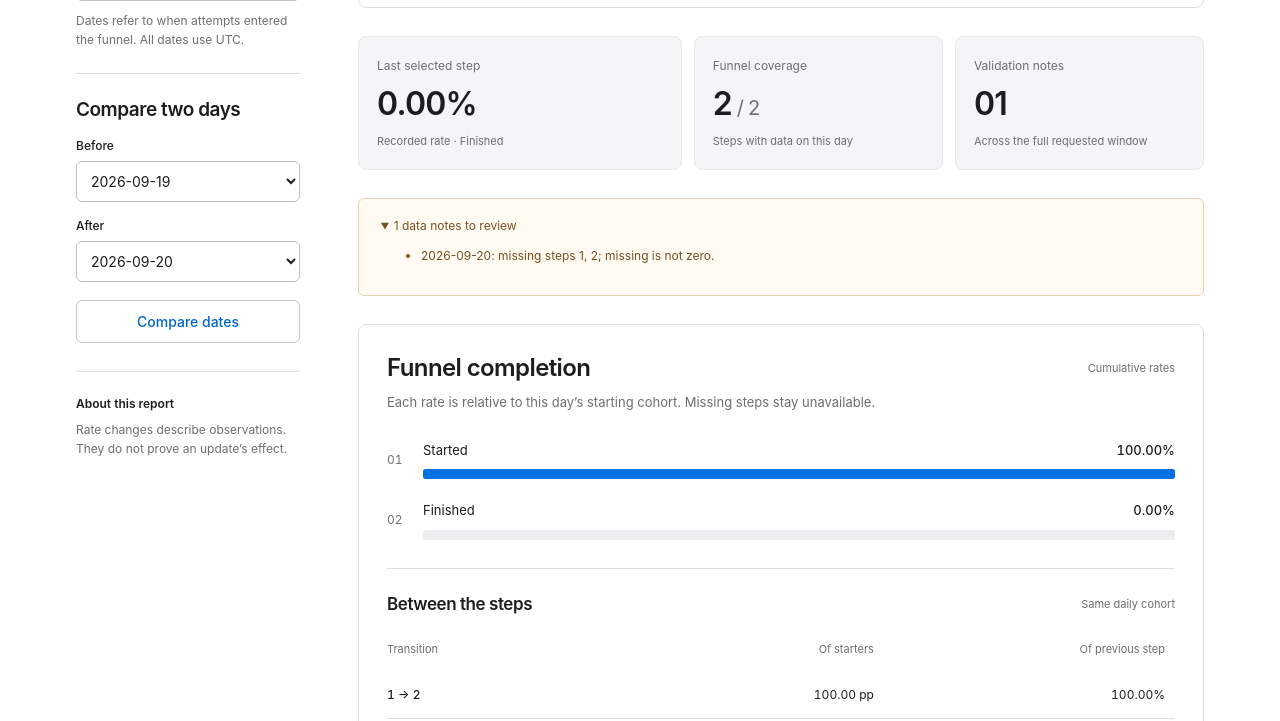
Test: turns a 422 error into a message and clears the prior report
(page scrolled)
Click the button "Compare dates".
click(188, 321)  # box [76, 300, 300, 343]
(page scrolled)
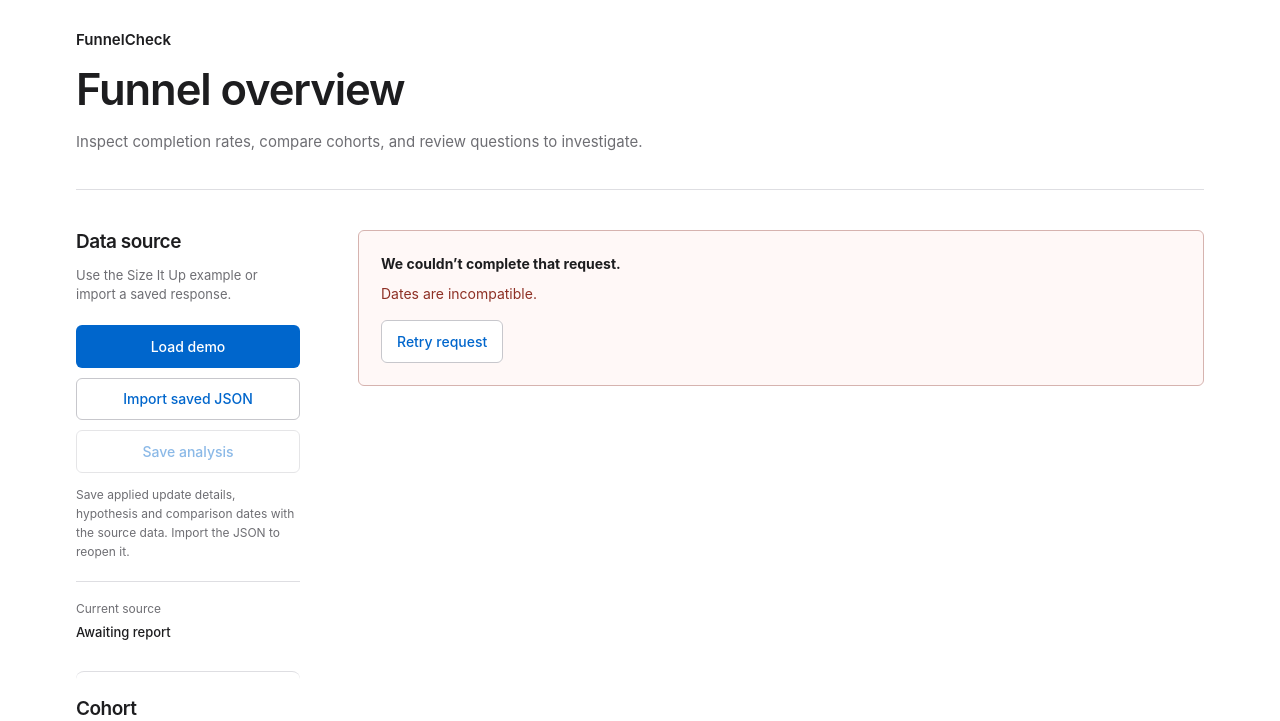
Expected: the message shows "Dates are incompatible.", [381, 285, 537, 302]
